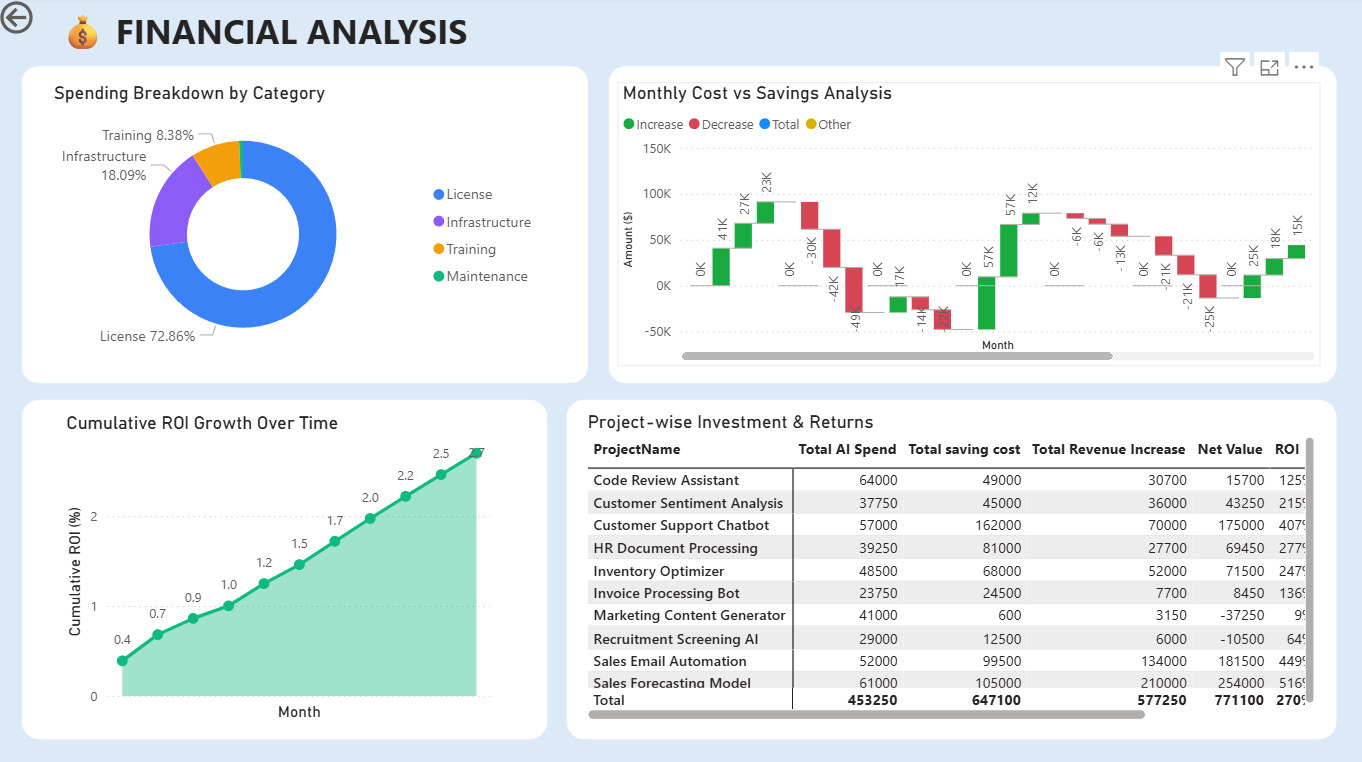

The page's visual inventory and layout, read from the dashboard file:
{"tool":"powerbi","page":{"name":"Page 3","canvas":[1280,720],"ordinal":2},"visuals":[{"type":"donutChart","title":"Spending Breakdown by Category","fields":{"Category":["AI spendings.SpendCategory"],"Y":["Measure.Total AI Spend"]},"box":[50,80.2,462.8,264],"z":0},{"type":"waterfallChart","title":"Monthly Cost vs Savings Analysis","fields":{"Category":["Date_Calendar - Sheet1.MonthName"],"Breakdown":["Waterfall Type.Metric"],"Y":["Waterfall Type.Waterfall_Value"]},"box":[579.1,80.2,653.5,264],"z":3000},{"type":"areaChart","title":"Cumulative ROI Growth Over Time","fields":{"Category":["Date_Calendar - Sheet1.MonthName"],"Y":["Measure.Cumulative ROI %"]},"box":[61.6,387.2,404.7,291.9],"z":3001},{"type":"pivotTable","title":"Project-wise Investment & Returns","fields":{"Rows":["AI Project.ProjectName"],"Values":["Measure.Total AI Spend","Measure.Total saving cost","Measure.Total Revenue Increase","Measure.Net Value","Measure.ROI","Measure.Break-even Status"]},"box":[546.5,386,686,291.9],"z":3002},{"type":"actionButton","box":[0,0,100,40],"z":3003},{"type":"textbox","box":[54.7,5.8,418.6,61.6],"z":3004}]}

Visuals, with their boxes in screenshot pixels (x1, y1, x2, y2), scaled from the page's 1280x720 canvas onto the 1362x762 screenshot:
"Spending Breakdown by Category" donutChart: box=[53, 85, 546, 364]
"Monthly Cost vs Savings Analysis" waterfallChart: box=[616, 85, 1312, 364]
"Cumulative ROI Growth Over Time" areaChart: box=[66, 410, 496, 719]
"Project-wise Investment & Returns" pivotTable: box=[582, 409, 1311, 717]
actionButton: box=[0, 0, 106, 42]
textbox: box=[58, 6, 504, 71]
